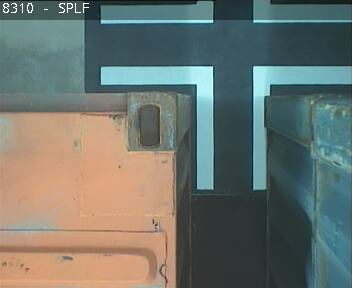groundmarker_1: (99, 65, 349, 190)
